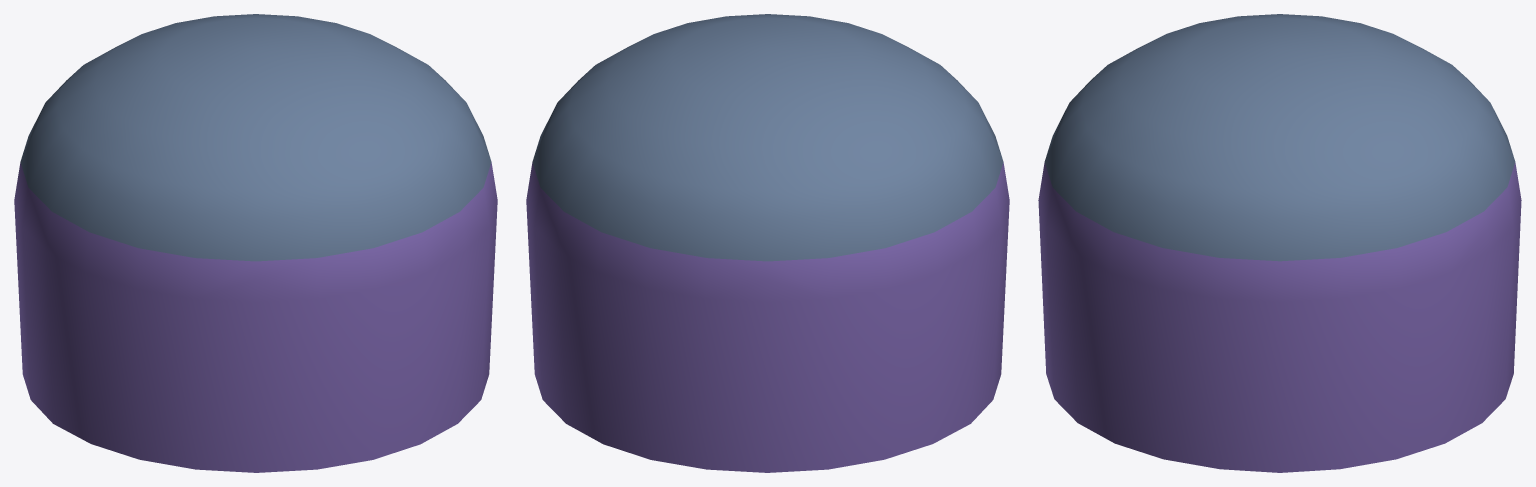
File: S5_BattleShip_Main_01_Lod2.fbx
3 renders of one model, left to right at view 1: azimuth 30°, elevation 25°; view 2: azimuth 150°, elevation 25°; view 3: azimuth 270°, elevation 25°, orthographic.
Visible parts, largest first — view 1: S5_BattleShip_Main_01_Lod2; view 2: S5_BattleShip_Main_01_Lod2; view 3: S5_BattleShip_Main_01_Lod2.
Part boxes in pixels (<box>): S5_BattleShip_Main_01_Lod2: <box>14,14,497,472</box>; S5_BattleShip_Main_01_Lod2: <box>526,14,1009,472</box>; S5_BattleShip_Main_01_Lod2: <box>1038,14,1521,472</box>.
Bounding box in the file's own units: 2844 × 2109 × 2844.
